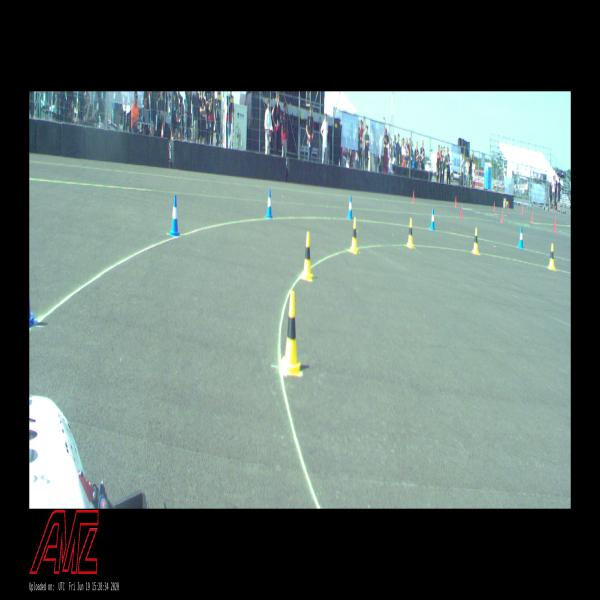blue_cone: (168, 195, 181, 236), (30, 294, 38, 327), (265, 189, 272, 219), (347, 195, 353, 220), (518, 227, 524, 248), (430, 209, 435, 230)
orange_cone: (161, 125, 163, 138)
unknown_cone: (412, 190, 415, 203), (500, 210, 503, 223), (553, 220, 556, 233), (460, 205, 462, 219), (454, 196, 456, 208), (531, 212, 533, 223), (554, 215, 556, 226), (493, 202, 495, 212), (521, 205, 523, 214)
yellow_cone: (281, 291, 301, 375), (302, 232, 312, 281), (349, 217, 358, 254), (406, 218, 413, 248), (548, 243, 555, 270), (472, 228, 479, 254)
